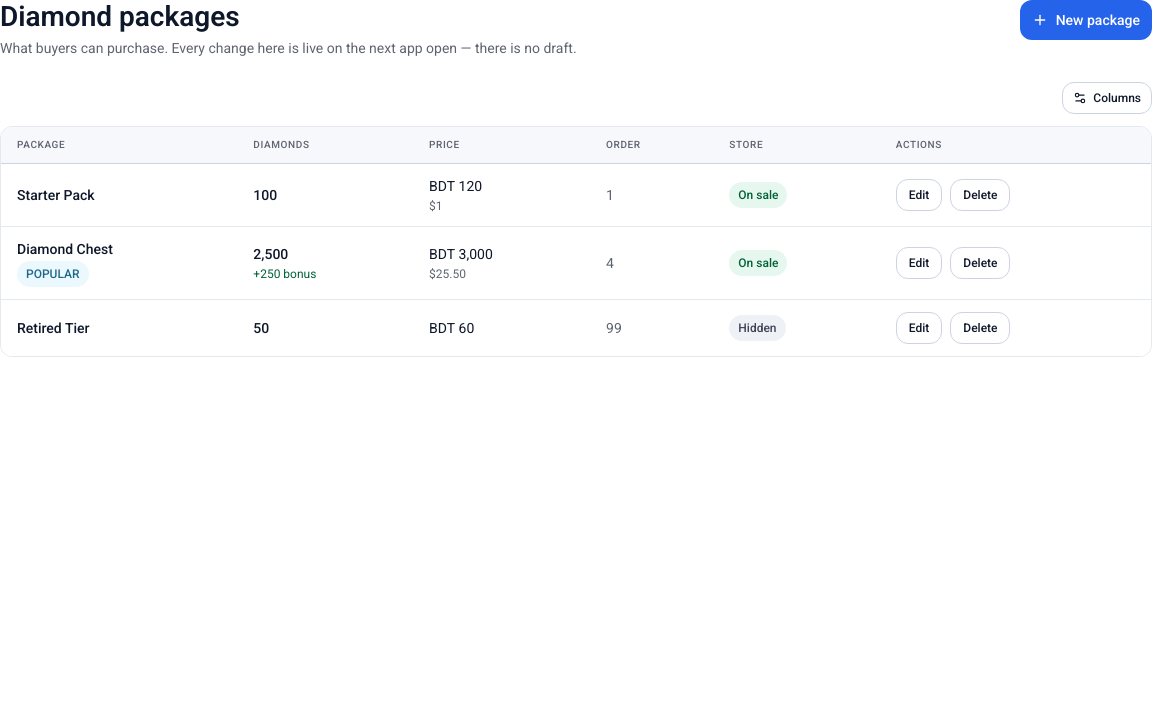
editing › re-seeds when the operator switches rows
The image size is (1152, 720).
Expected: the text "Starter Pack" is shown, 17,187 -> 95,203
Click the button with aria-label "Edit Starter Pack": (919, 195) 896,179 -> 942,211
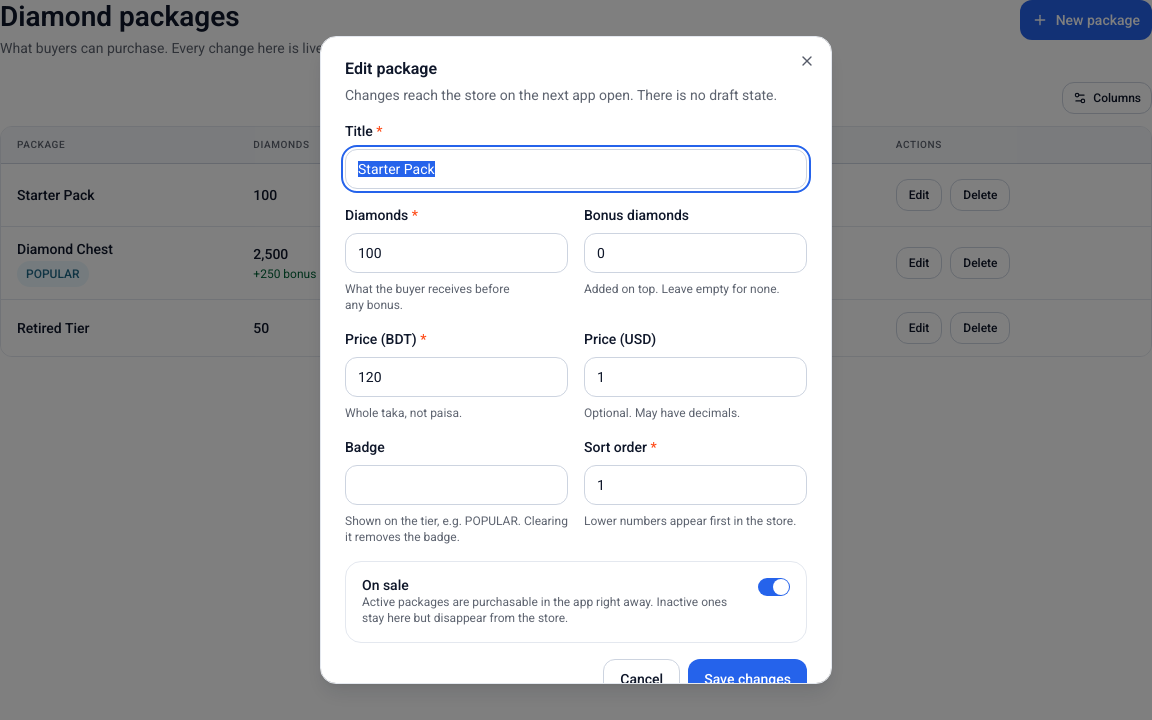
Expected: the field labelled "Price (BDT) *" holds "120", 345,357 -> 568,397
Click the button "Cancel": (642, 679) 603,659 -> 680,699
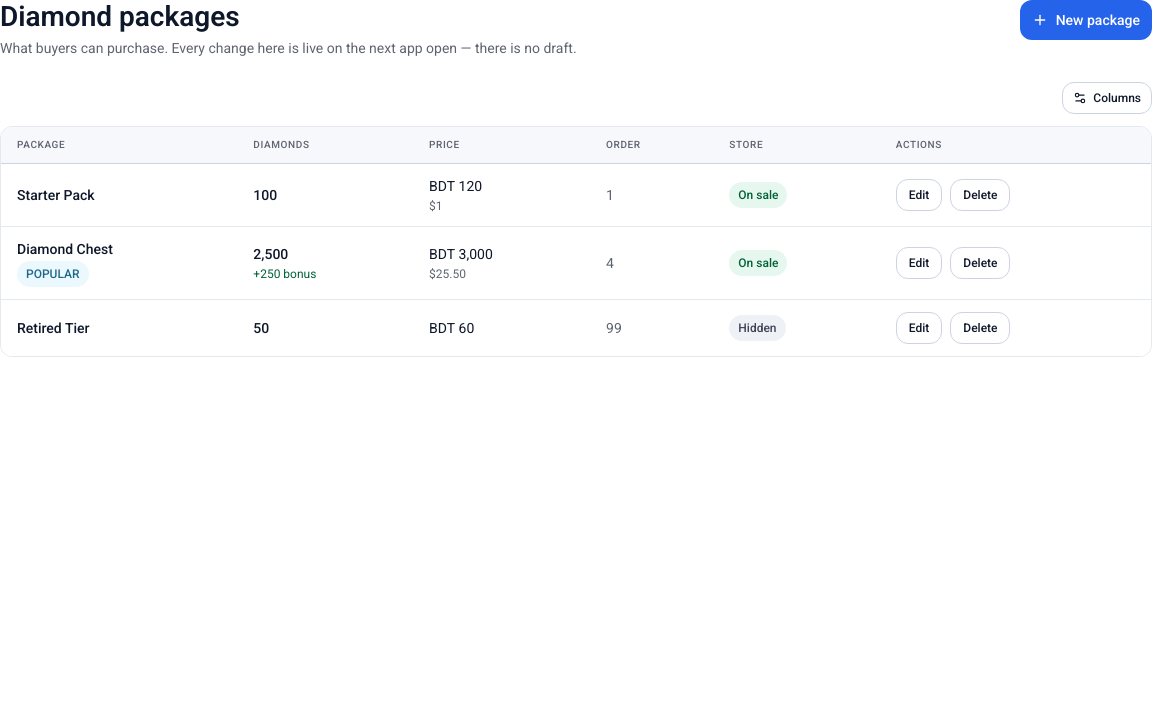
Click the button with aria-label "Edit Diamond Chest": (919, 263) 896,247 -> 942,279
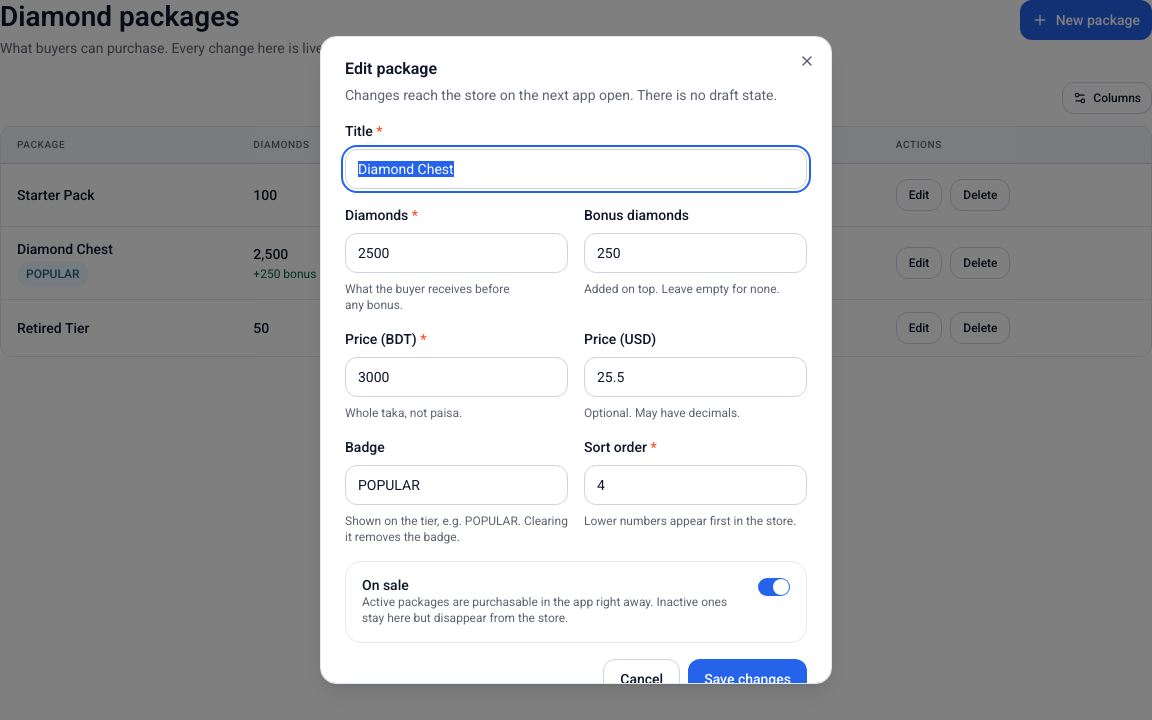
Expected: the field labelled "Price (BDT) *" holds "3000", 345,357 -> 568,397
Expected: the field labelled "Title *" holds "Diamond Chest", 345,149 -> 807,189
